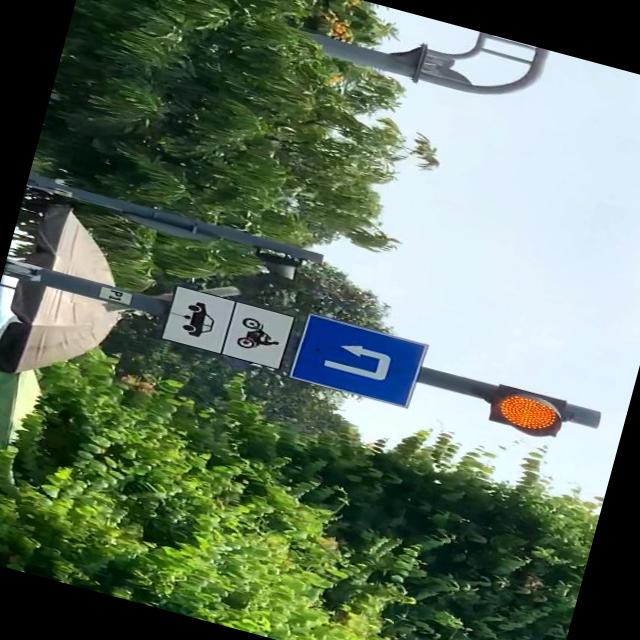I-409: (290, 312, 428, 408)
